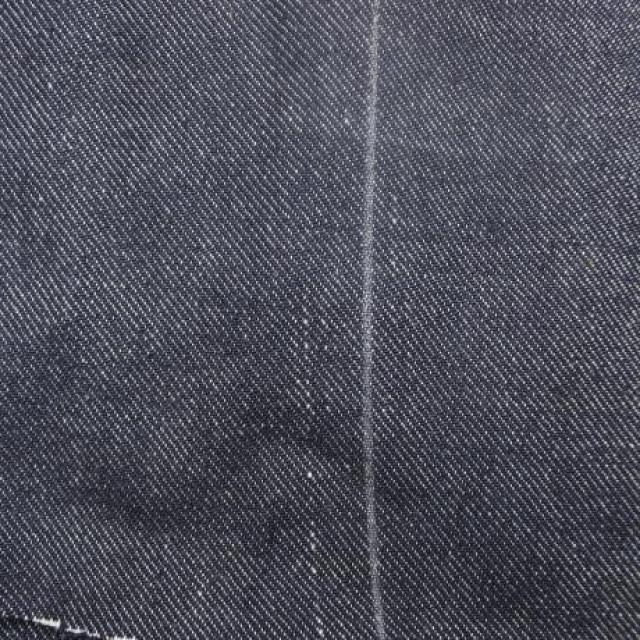Thread_other: (225, 260, 358, 640)
